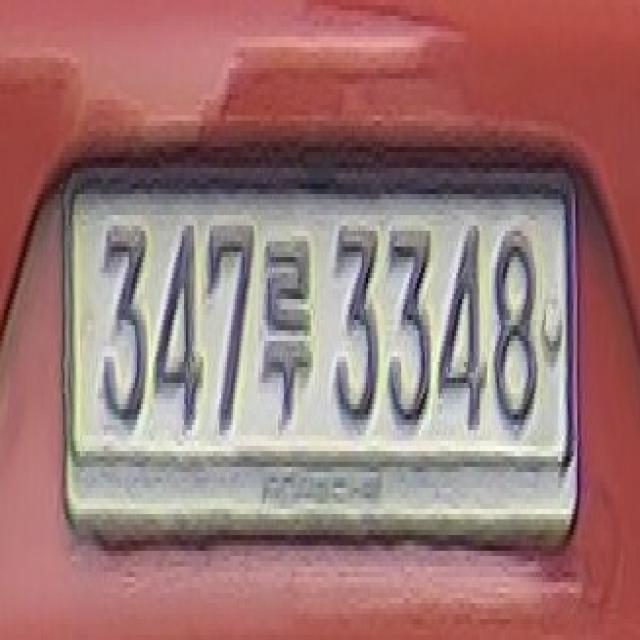plat: (60, 154, 581, 547)
